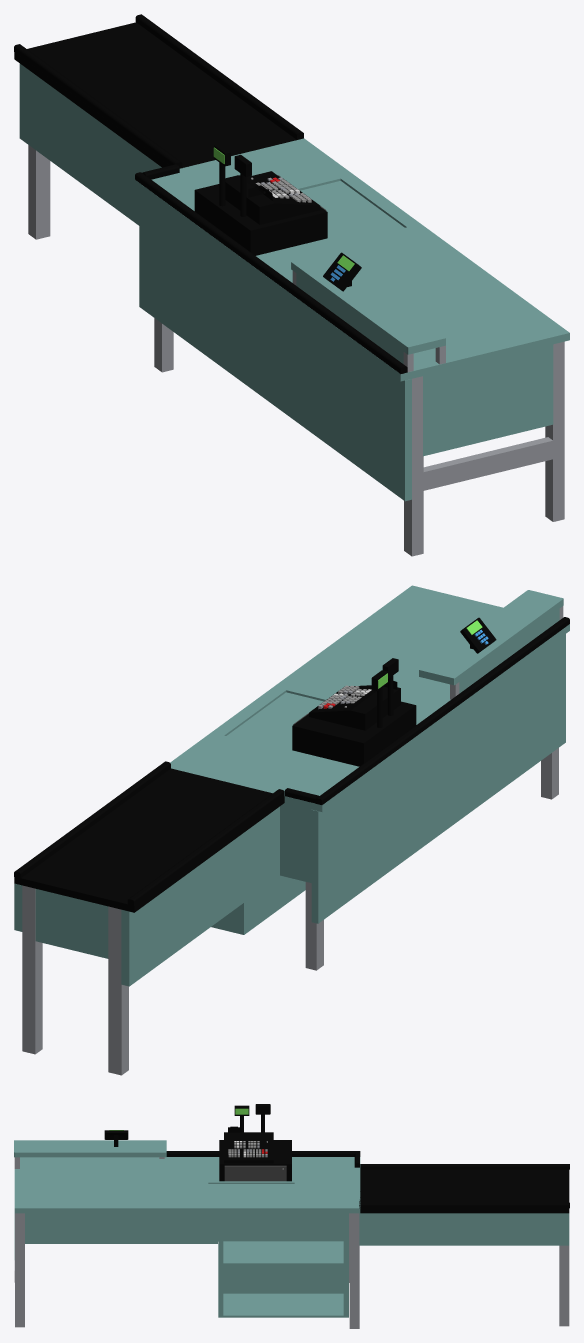
Rendered from CASHREGISTER.fbx.
3 renders of one model, top to bottom at view 1: azimuth 30°, elevation 25°; view 2: azimuth 150°, elevation 25°; view 3: azimuth 270°, elevation 25°, orthographic. The views are drawn at different scales.
Parts seen in each view (by area): view 1: Cube.003, Cube, Cube.002, Cube.016, Cube.004, Cube.068, Cube.005, Cube.001, Cube.017, Cube.011, Cube.010, Cube.019 (+4 smaller); view 2: Cube.003, Cube, Cube.002, Cube.004, Cube.068, Cube.005, Cube.026, Cube.013, Cube.001, Cube.014, Cube.015, Cube.023 (+5 smaller); view 3: Cube, Cube.002, Cube.024, Cube.022, Cube.023, Cube.025, Cube.068, Cube.005, Cube.019, Cube.012, Cube.018, Cube.011 (+2 smaller).
Part boxes in pixels (x1,y1,x2,y2): Cube.003: (139, 190, 411, 501); Cube: (135, 138, 569, 381); Cube.002: (14, 22, 299, 168); Cube.016: (423, 344, 553, 456); Cube.004: (19, 63, 161, 225); Cube.068: (194, 144, 327, 255); Cube.005: (291, 252, 445, 354); Cube.001: (135, 172, 407, 373); Cube.017: (423, 437, 553, 490); Cube.011: (545, 341, 564, 521); Cube.010: (404, 376, 423, 556); Cube.019: (135, 14, 303, 139); Cube.003: (311, 634, 565, 923); Cube: (170, 585, 569, 811); Cube.002: (14, 768, 284, 912); Cube.004: (121, 806, 279, 986); Cube.068: (292, 658, 416, 766); Cube.005: (419, 590, 563, 685); Cube.026: (35, 889, 108, 958); Cube.013: (22, 885, 42, 1054); Cube.001: (315, 617, 569, 804); Cube.014: (108, 906, 128, 1075); Cube.015: (280, 803, 311, 882); Cube.023: (211, 875, 305, 934); Cube: (14, 1157, 360, 1213); Cube.002: (359, 1169, 569, 1213); Cube.024: (359, 1213, 569, 1245); Cube.022: (218, 1213, 348, 1265); Cube.023: (218, 1265, 348, 1317); Cube.025: (25, 1213, 217, 1243); Cube.068: (219, 1104, 291, 1181); Cube.005: (14, 1140, 166, 1157); Cube.019: (360, 1202, 569, 1208); Cube.012: (349, 1213, 359, 1328); Cube.018: (360, 1164, 569, 1169); Cube.011: (15, 1213, 24, 1327).
Size of the model in its own units: 4.41 by 6.66 by 19.27.
